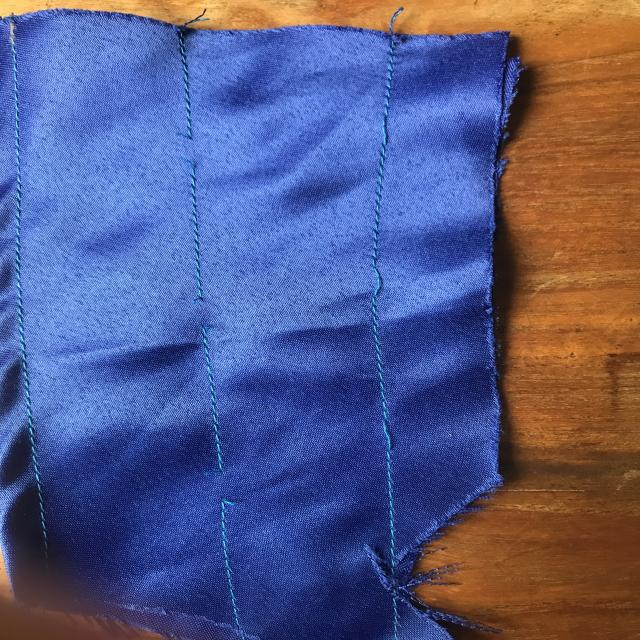broken: (168, 278, 232, 352)
skip: (320, 248, 395, 316)
